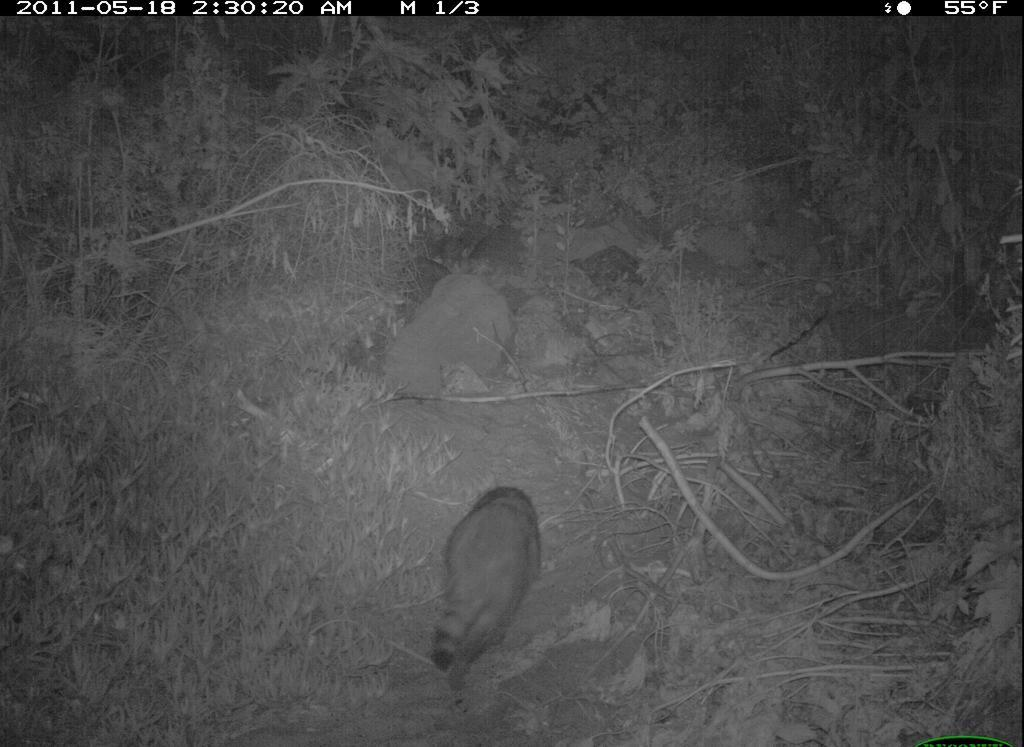raccoon: (424, 481, 559, 697)
